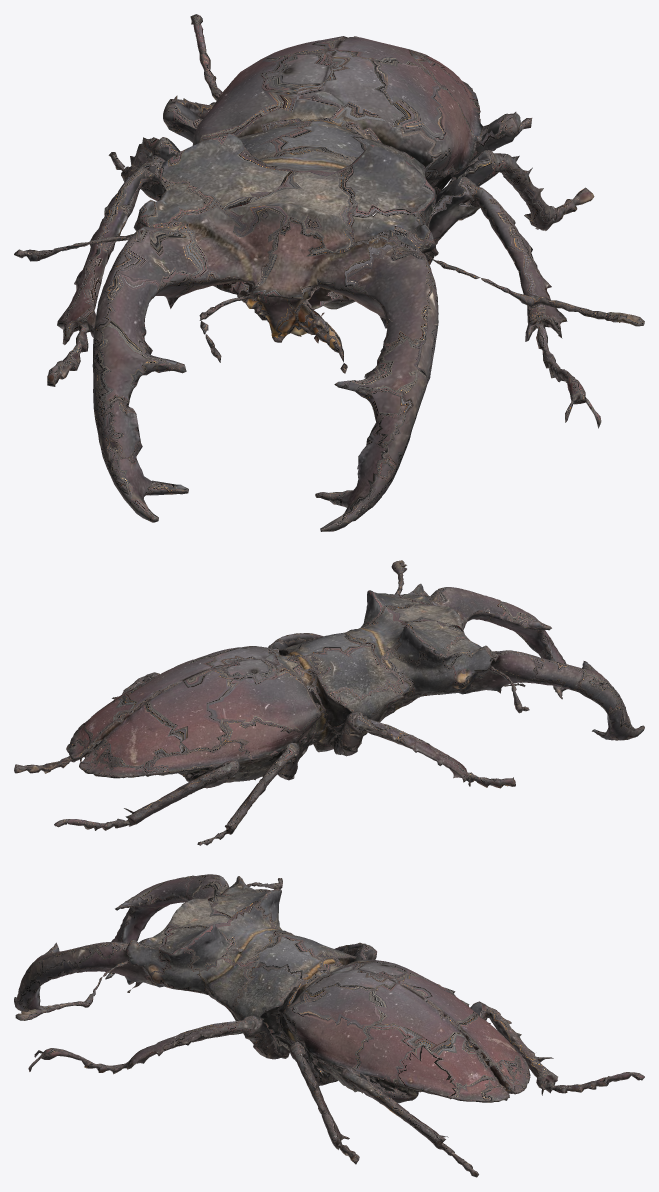
The model's file is beetle.glb.
3 views of the same model, one above another, from view 1: azimuth 30°, elevation 25°; view 2: azimuth 150°, elevation 25°; view 3: azimuth 270°, elevation 25° (orthographic). The views are drawn at different scales.
Parts seen in each view (by area): view 1: Object_2; view 2: Object_2; view 3: Object_2.
Boxes of the visible parts, x1,y1,x2,y2 form: Object_2: [14, 14, 644, 531]; Object_2: [14, 560, 644, 845]; Object_2: [14, 874, 644, 1177].
Size of the model in its own units: 0.182 by 0.0574 by 0.2248.
1 material, 1 textured.
